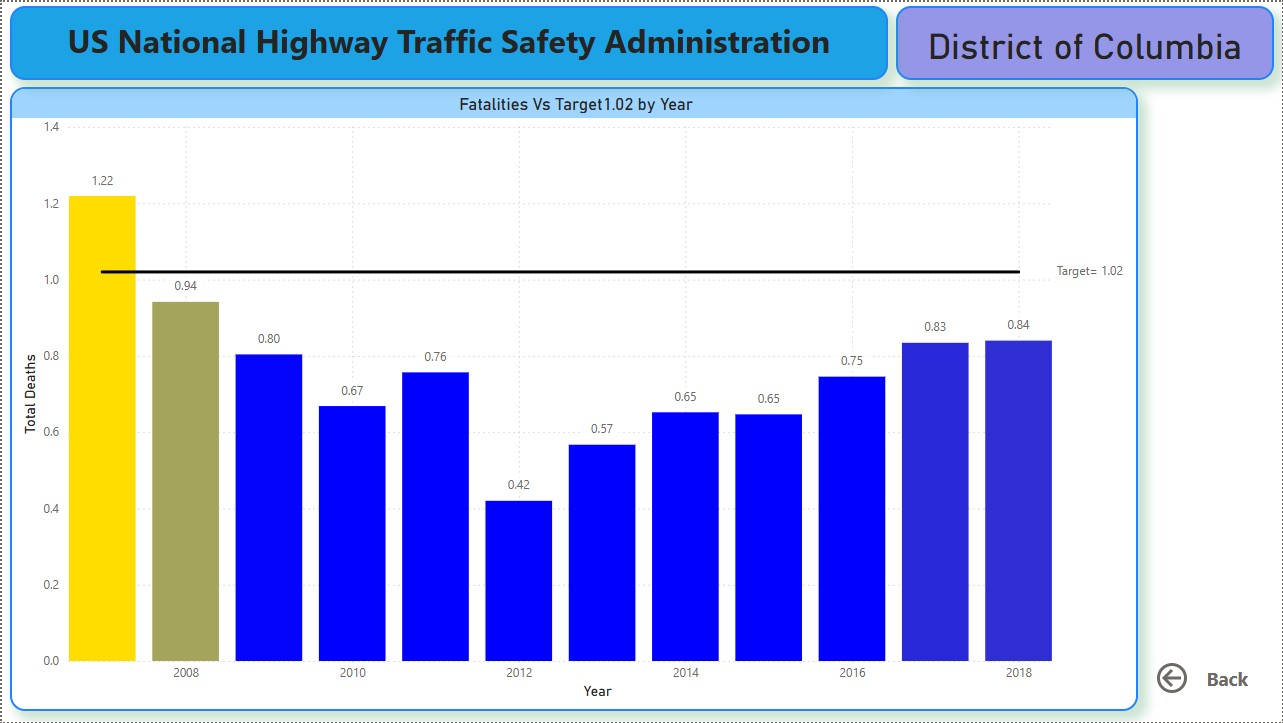

What the dashboard file says about the page in this screenshot:
{"tool":"powerbi","page":{"name":"Fatality Rate","canvas":[1280,720],"ordinal":3},"visuals":[{"type":"lineStackedColumnComboChart","title":"Year wise Fatalities Vs Target","fields":{"Category":["PA - Driving Safety.Year"],"Y2":["Sum(PA - Driving Safety.Target1.02)"],"Y":["Avg(PA - Driving Safety.Deaths per 100 million vehicle miles traveled)"]},"box":[8.1,84.7,1127.8,623.9],"z":0},{"type":"card","title":"Selected US State","fields":{"Values":["Min(PA - Driving Safety.State)"]},"box":[894,4,378,73.6],"z":1000},{"type":"textbox","box":[8.1,4,877.9,73.6],"z":2000},{"type":"actionButton","box":[1150,656.1,99.8,40.3],"z":3000}]}

Visuals, with their boxes in screenshot pixels (x1, y1, x2, y2), scaled from the page's 1280x720 canvas onto the 1283x723 screenshot:
"Year wise Fatalities Vs Target" lineStackedColumnComboChart: crop(8, 85, 1139, 712)
"Selected US State" card: crop(896, 4, 1275, 78)
textbox: crop(8, 4, 888, 78)
actionButton: crop(1153, 659, 1253, 699)
